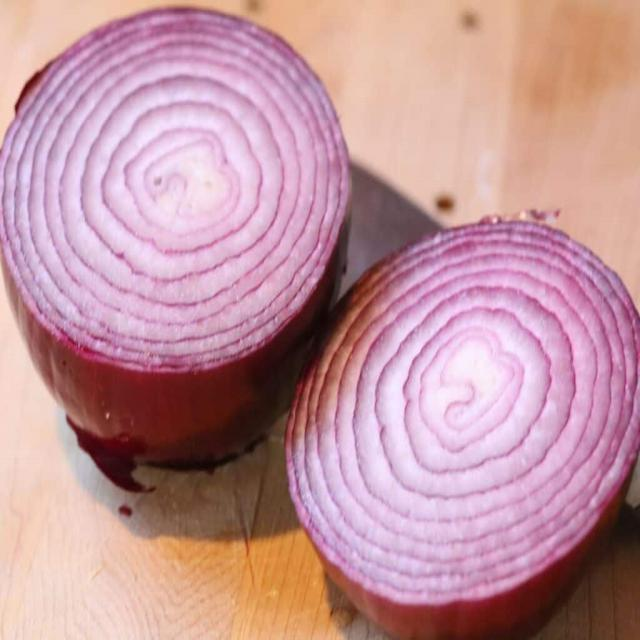onion: (2, 0, 355, 470), (282, 210, 639, 640)
